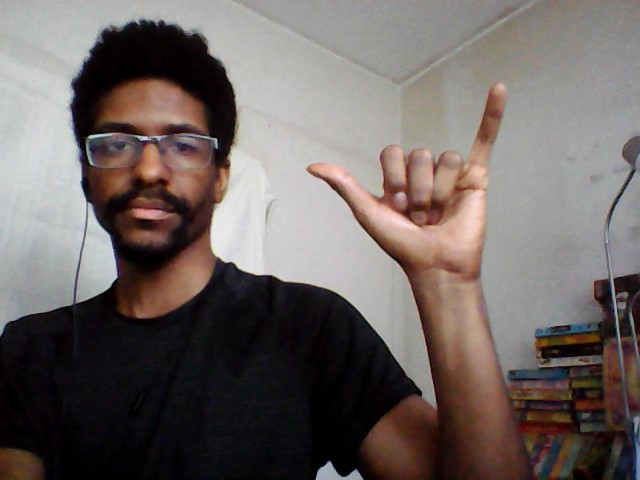y: (301, 77, 512, 283)
